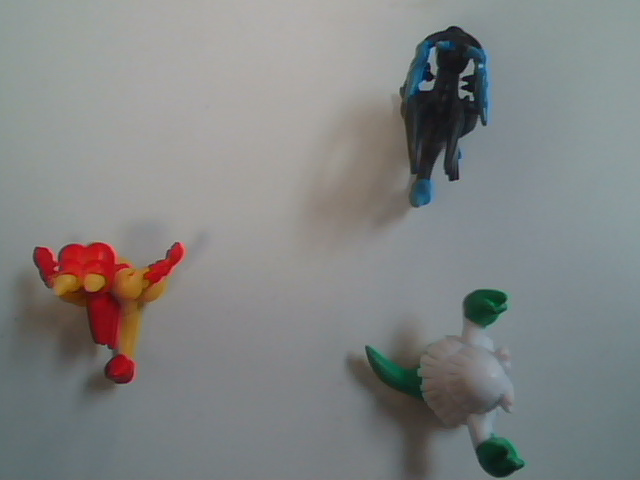abomasnow: (342, 295, 575, 480)
charizard: (353, 20, 574, 230)
magmar: (21, 215, 238, 408)
